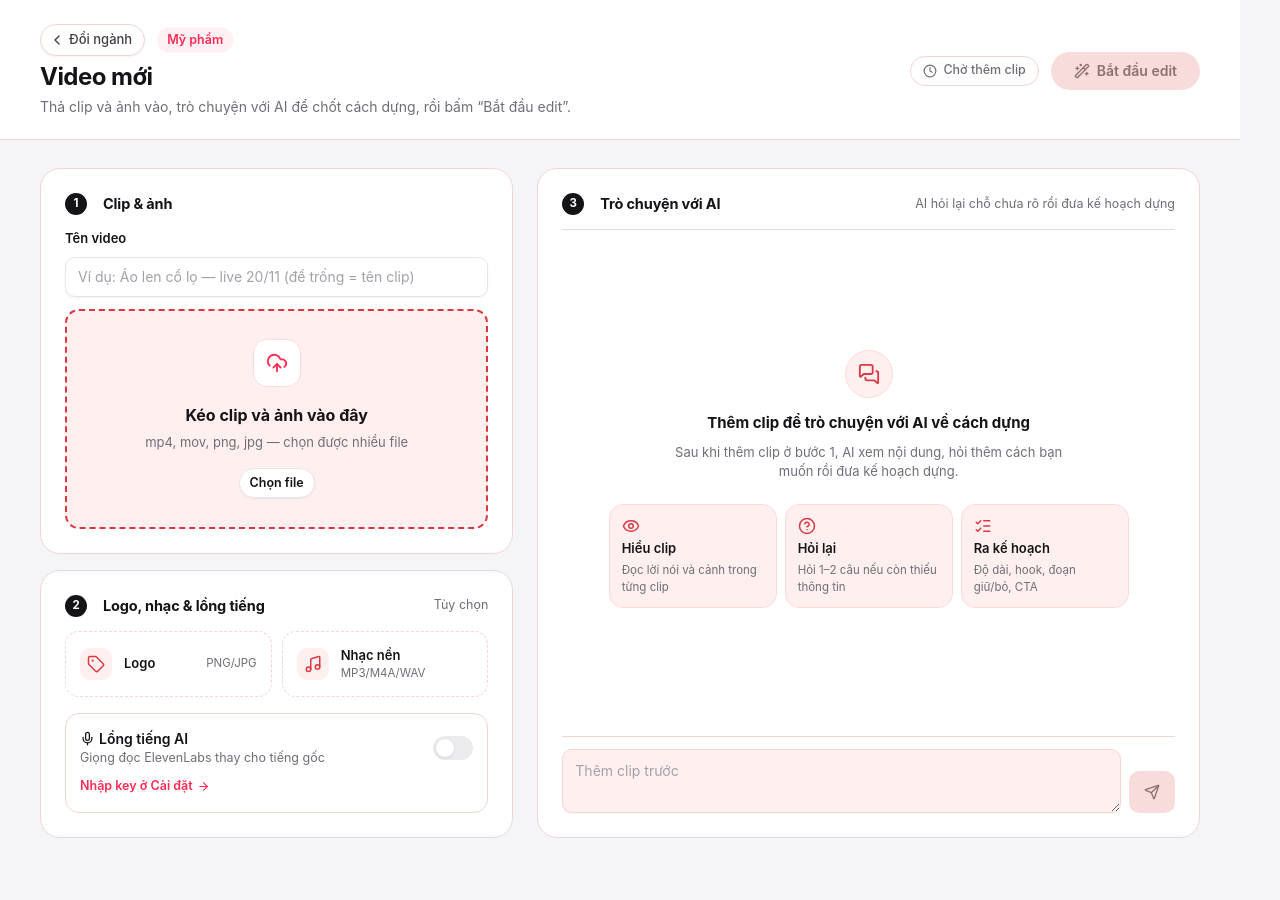
it: picking a clip creates the project (named after the clip), and the AI opens the chat
The image size is (1280, 900).
Click the text "Kéo clip và ảnh vào đây" at (277, 415), box [185, 403, 368, 427]
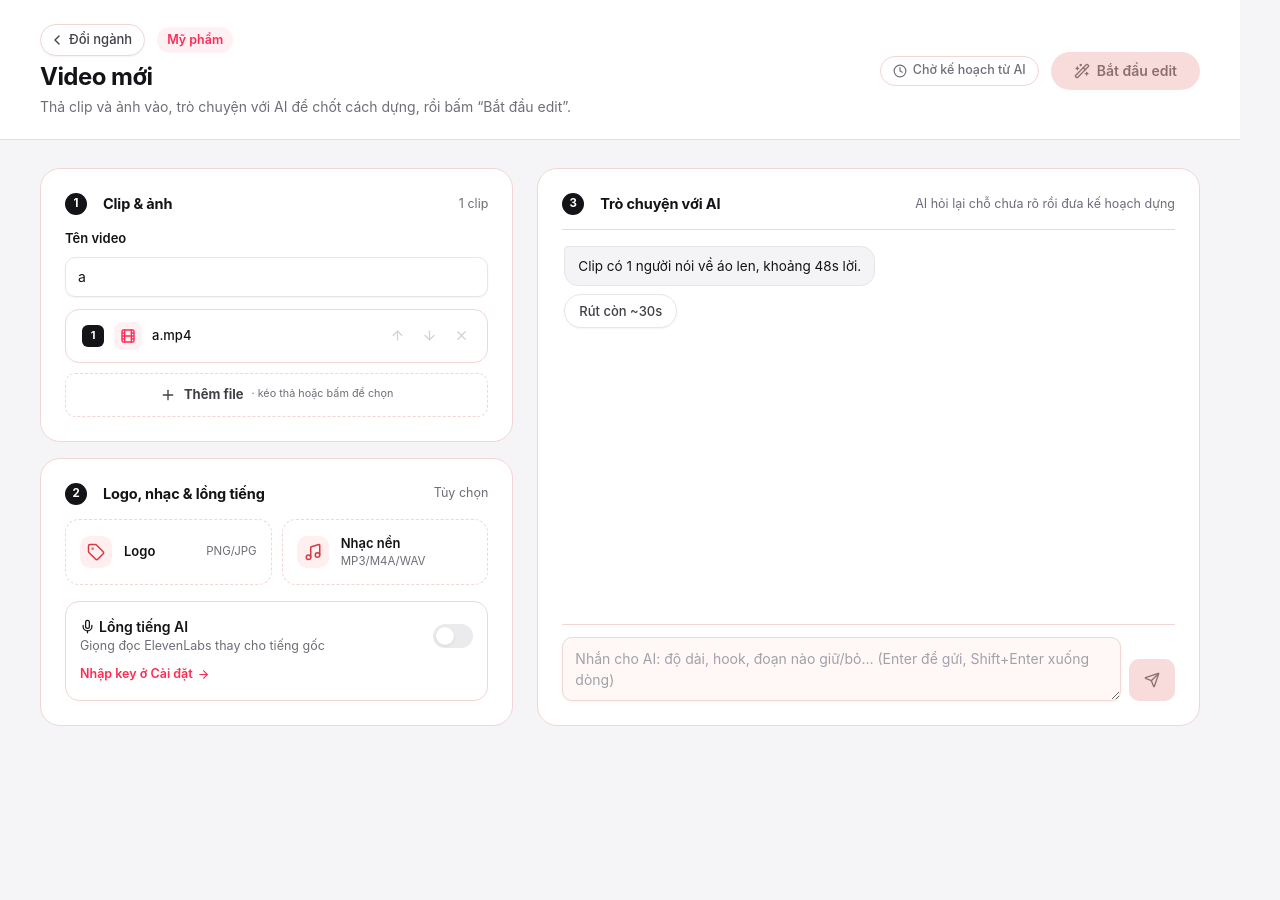
Now the text "Clip có 1 người nói về áo len, khoảng 48s lời." is shown, box [564, 246, 875, 286]
Now the field named "Tên video" holds "a", box [65, 256, 488, 296]
